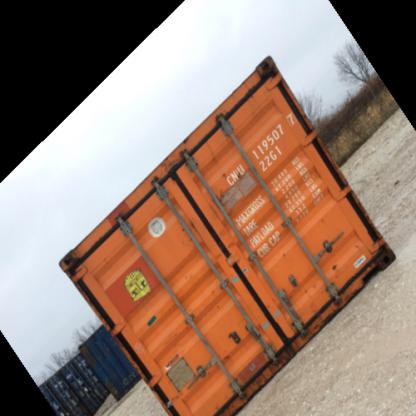Damage: (212, 186, 243, 240), (162, 153, 192, 186), (176, 302, 214, 324), (60, 251, 86, 278), (323, 256, 347, 282), (253, 56, 277, 78)
